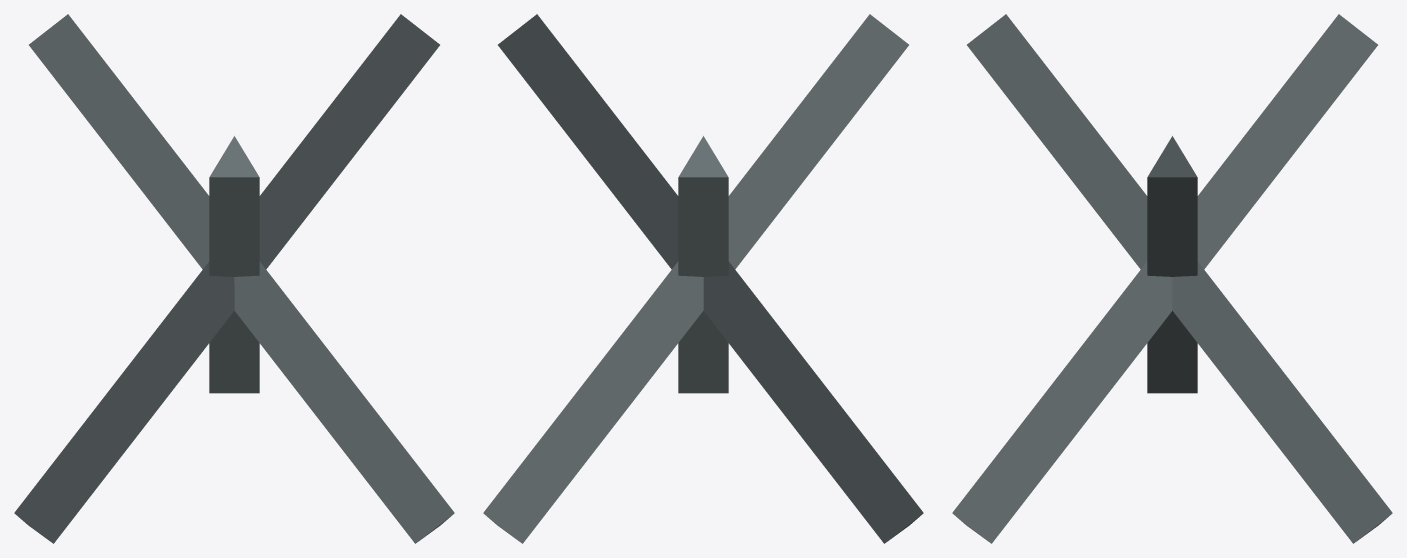
File: Cross.FBX
3 renders of one model, left to right at view 1: azimuth 30°, elevation 25°; view 2: azimuth 150°, elevation 25°; view 3: azimuth 270°, elevation 25°, orthographic.
Visible parts, largest first — view 1: cross; view 2: cross; view 3: cross.
Boxes of the visible parts, left/top/right/bottom form: cross: left=14, top=14, right=454, bottom=543; cross: left=483, top=14, right=923, bottom=543; cross: left=952, top=14, right=1392, bottom=543.
Size of the model in its own units: 0.823 by 0.823 by 0.7593.
1 material, 1 textured.
